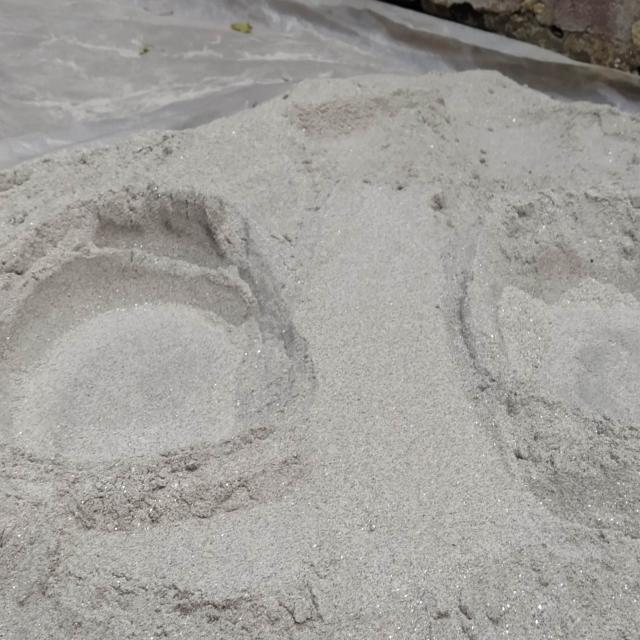C20: (0, 187, 292, 465), (465, 192, 640, 434)
